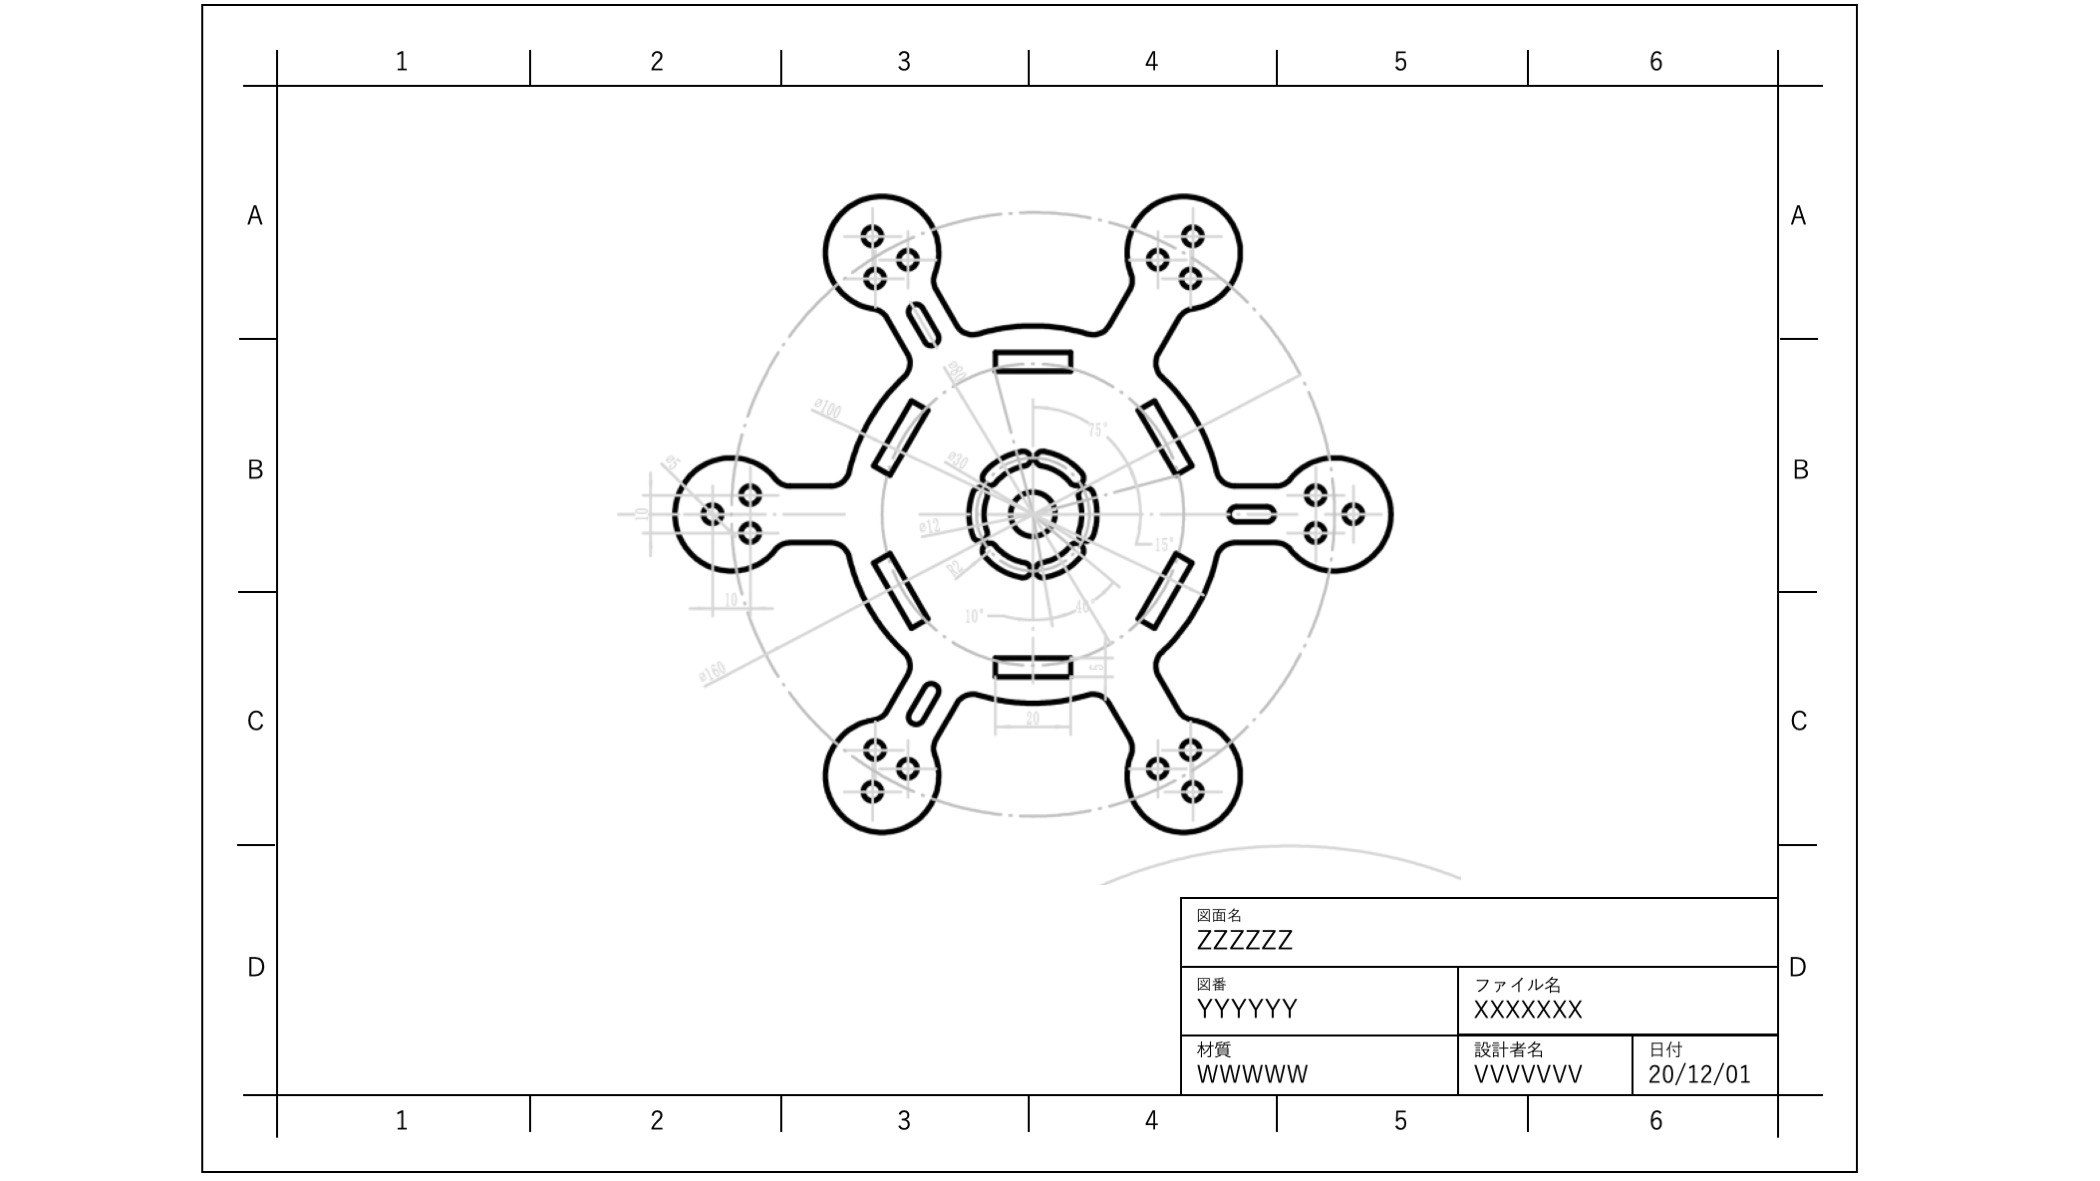circle: (1011, 483, 1059, 536), (855, 712, 891, 761), (1336, 489, 1367, 531), (731, 474, 766, 510), (1181, 212, 1209, 254), (1139, 744, 1171, 780), (1173, 730, 1209, 761), (854, 776, 886, 809), (1141, 236, 1170, 273), (1298, 476, 1330, 508), (695, 495, 724, 529), (896, 744, 919, 786), (733, 512, 762, 545), (1181, 774, 1209, 809), (855, 267, 896, 288), (1298, 518, 1325, 549), (896, 235, 919, 273), (1173, 262, 1201, 291), (861, 216, 884, 247)
rectangle: (1131, 389, 1194, 487), (870, 385, 930, 483), (1131, 545, 1196, 633), (867, 544, 926, 632), (982, 637, 1075, 686), (984, 346, 1075, 382)
round_rectangle: (1036, 534, 1093, 585), (972, 446, 1037, 490), (1030, 446, 1089, 492), (976, 534, 1033, 581), (901, 672, 948, 730), (1070, 474, 1102, 549), (901, 290, 940, 348), (1225, 493, 1278, 534), (958, 485, 995, 539)
